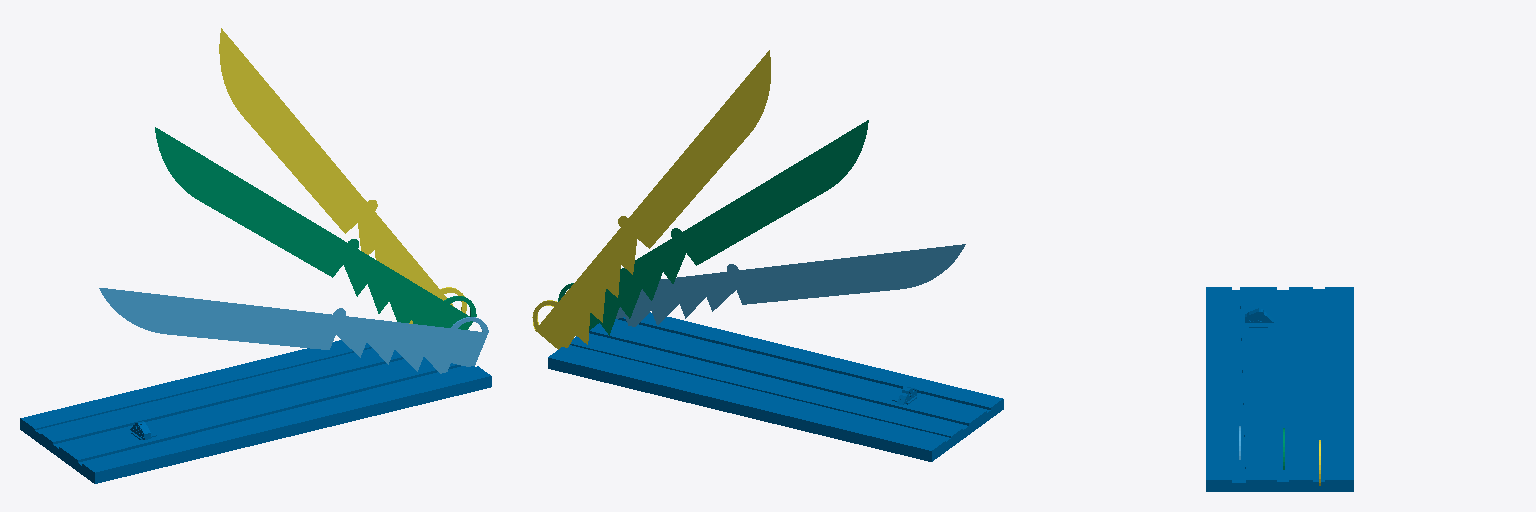
robot.urdf — partnet_c6f099ebb6fee3ab99daef381677b040:
<?xml version="1.0" ?>
<robot name="partnet_c6f099ebb6fee3ab99daef381677b040">
	<link name="base"/>
	<link name="link_0">
		<visual name="rotation_blade-1">
			<origin xyz="-0.11497700000000055 0.0726134822411203 0.5552720470672884"/>
			<geometry>
				<mesh filename="textured_objs/original-12.obj"/>
			</geometry>
		</visual>
		<collision>
			<origin xyz="-0.11497700000000055 0.0726134822411203 0.5552720470672884"/>
			<geometry>
				<mesh filename="textured_objs/original-12.obj"/>
			</geometry>
		</collision>
	</link>
	<joint name="joint_0" type="revolute">
		<origin xyz="0.11497700000000055 -0.0726134822411203 -0.5552720470672884"/>
		<axis xyz="-1 0 0"/>
		<child link="link_0"/>
		<parent link="link_3"/>
		<limit lower="-0.3267256359733385" upper="1.2440706908215582"/>
	</joint>
	<link name="link_1">
		<visual name="rotation_blade-2">
			<origin xyz="-0.11497700000000055 0.0726134822411203 0.5552720470672884"/>
			<geometry>
				<mesh filename="textured_objs/original-14.obj"/>
			</geometry>
		</visual>
		<collision>
			<origin xyz="-0.11497700000000055 0.0726134822411203 0.5552720470672884"/>
			<geometry>
				<mesh filename="textured_objs/original-14.obj"/>
			</geometry>
		</collision>
	</link>
	<joint name="joint_1" type="revolute">
		<origin xyz="0.11497700000000055 -0.0726134822411203 -0.5552720470672884"/>
		<axis xyz="-1 0 0"/>
		<child link="link_1"/>
		<parent link="link_3"/>
		<limit lower="-0.6660176425610361" upper="0.867079572390783"/>
	</joint>
	<link name="link_2">
		<visual name="rotation_blade-3">
			<origin xyz="-0.11497700000000055 0.0726134822411203 0.5552720470672884"/>
			<geometry>
				<mesh filename="textured_objs/original-13.obj"/>
			</geometry>
		</visual>
		<collision>
			<origin xyz="-0.11497700000000055 0.0726134822411203 0.5552720470672884"/>
			<geometry>
				<mesh filename="textured_objs/original-13.obj"/>
			</geometry>
		</collision>
	</link>
	<joint name="joint_2" type="revolute">
		<origin xyz="0.11497700000000055 -0.0726134822411203 -0.5552720470672884"/>
		<axis xyz="-1 0 0"/>
		<child link="link_2"/>
		<parent link="link_3"/>
		<limit lower="-0.9613273519984766" upper="0.6094689747964201"/>
	</joint>
	<link name="link_3">
		<visual name="base_body-4">
			<origin xyz="0 0 0"/>
			<geometry>
				<mesh filename="textured_objs/original-4.obj"/>
			</geometry>
		</visual>
		<visual name="base_body-4">
			<origin xyz="0 0 0"/>
			<geometry>
				<mesh filename="textured_objs/original-3.obj"/>
			</geometry>
		</visual>
		<visual name="base_body-4">
			<origin xyz="0 0 0"/>
			<geometry>
				<mesh filename="textured_objs/original-2.obj"/>
			</geometry>
		</visual>
		<visual name="base_body-4">
			<origin xyz="0 0 0"/>
			<geometry>
				<mesh filename="textured_objs/original-16.obj"/>
			</geometry>
		</visual>
		<visual name="base_body-4">
			<origin xyz="0 0 0"/>
			<geometry>
				<mesh filename="textured_objs/original-8.obj"/>
			</geometry>
		</visual>
		<visual name="base_body-4">
			<origin xyz="0 0 0"/>
			<geometry>
				<mesh filename="textured_objs/original-9.obj"/>
			</geometry>
		</visual>
		<visual name="base_body-4">
			<origin xyz="0 0 0"/>
			<geometry>
				<mesh filename="textured_objs/original-5.obj"/>
			</geometry>
		</visual>
		<visual name="base_body-4">
			<origin xyz="0 0 0"/>
			<geometry>
				<mesh filename="textured_objs/original-6.obj"/>
			</geometry>
		</visual>
		<visual name="base_body-4">
			<origin xyz="0 0 0"/>
			<geometry>
				<mesh filename="textured_objs/original-15.obj"/>
			</geometry>
		</visual>
		<visual name="base_body-4">
			<origin xyz="0 0 0"/>
			<geometry>
				<mesh filename="textured_objs/original-11.obj"/>
			</geometry>
		</visual>
		<visual name="base_body-4">
			<origin xyz="0 0 0"/>
			<geometry>
				<mesh filename="textured_objs/original-7.obj"/>
			</geometry>
		</visual>
		<visual name="base_body-4">
			<origin xyz="0 0 0"/>
			<geometry>
				<mesh filename="textured_objs/original-1.obj"/>
			</geometry>
		</visual>
		<visual name="base_body-4">
			<origin xyz="0 0 0"/>
			<geometry>
				<mesh filename="textured_objs/original-10.obj"/>
			</geometry>
		</visual>
		<collision>
			<origin xyz="0 0 0"/>
			<geometry>
				<mesh filename="textured_objs/original-4.obj"/>
			</geometry>
		</collision>
		<collision>
			<origin xyz="0 0 0"/>
			<geometry>
				<mesh filename="textured_objs/original-3.obj"/>
			</geometry>
		</collision>
		<collision>
			<origin xyz="0 0 0"/>
			<geometry>
				<mesh filename="textured_objs/original-2.obj"/>
			</geometry>
		</collision>
		<collision>
			<origin xyz="0 0 0"/>
			<geometry>
				<mesh filename="textured_objs/original-16.obj"/>
			</geometry>
		</collision>
		<collision>
			<origin xyz="0 0 0"/>
			<geometry>
				<mesh filename="textured_objs/original-8.obj"/>
			</geometry>
		</collision>
		<collision>
			<origin xyz="0 0 0"/>
			<geometry>
				<mesh filename="textured_objs/original-9.obj"/>
			</geometry>
		</collision>
		<collision>
			<origin xyz="0 0 0"/>
			<geometry>
				<mesh filename="textured_objs/original-5.obj"/>
			</geometry>
		</collision>
		<collision>
			<origin xyz="0 0 0"/>
			<geometry>
				<mesh filename="textured_objs/original-6.obj"/>
			</geometry>
		</collision>
		<collision>
			<origin xyz="0 0 0"/>
			<geometry>
				<mesh filename="textured_objs/original-15.obj"/>
			</geometry>
		</collision>
		<collision>
			<origin xyz="0 0 0"/>
			<geometry>
				<mesh filename="textured_objs/original-11.obj"/>
			</geometry>
		</collision>
		<collision>
			<origin xyz="0 0 0"/>
			<geometry>
				<mesh filename="textured_objs/original-7.obj"/>
			</geometry>
		</collision>
		<collision>
			<origin xyz="0 0 0"/>
			<geometry>
				<mesh filename="textured_objs/original-1.obj"/>
			</geometry>
		</collision>
		<collision>
			<origin xyz="0 0 0"/>
			<geometry>
				<mesh filename="textured_objs/original-10.obj"/>
			</geometry>
		</collision>
	</link>
	<joint name="joint_3" type="fixed">
		<origin rpy="1.570796326794897 0 -1.570796326794897" xyz="0 0 0"/>
		<child link="link_3"/>
		<parent link="base"/>
	</joint>
</robot>

--- Render facts (derived) ---
The picture shows the robot from 3 angles, left to right: view 1: azimuth 30°, elevation 25°; view 2: azimuth 150°, elevation 25°; view 3: azimuth 270°, elevation 25°; orthographic projection.
Model partnet_c6f099ebb6fee3ab99daef381677b040 with 5 links and 4 joints (3 revolute, 1 fixed), rooted at base, posed every joint at zero.
Visible links, largest first — view 1: link_3, link_0, link_1, link_2; view 2: link_3, link_2, link_1, link_0; view 3: link_3.
Boxes of the visible links, bbox=[...] form: link_3: bbox=[20, 340, 491, 483]; link_0: bbox=[99, 288, 488, 373]; link_1: bbox=[155, 127, 476, 329]; link_2: bbox=[219, 28, 466, 323]; link_3: bbox=[548, 312, 1003, 461]; link_2: bbox=[532, 50, 770, 349]; link_1: bbox=[558, 120, 868, 335]; link_0: bbox=[616, 244, 965, 326]; link_3: bbox=[1206, 287, 1353, 491].
Size in the robot's own frame: 1.4 by 0.4201 by 1.15 metres.
16 mesh visuals loaded from 16 distinct referenced files (16 OBJ).